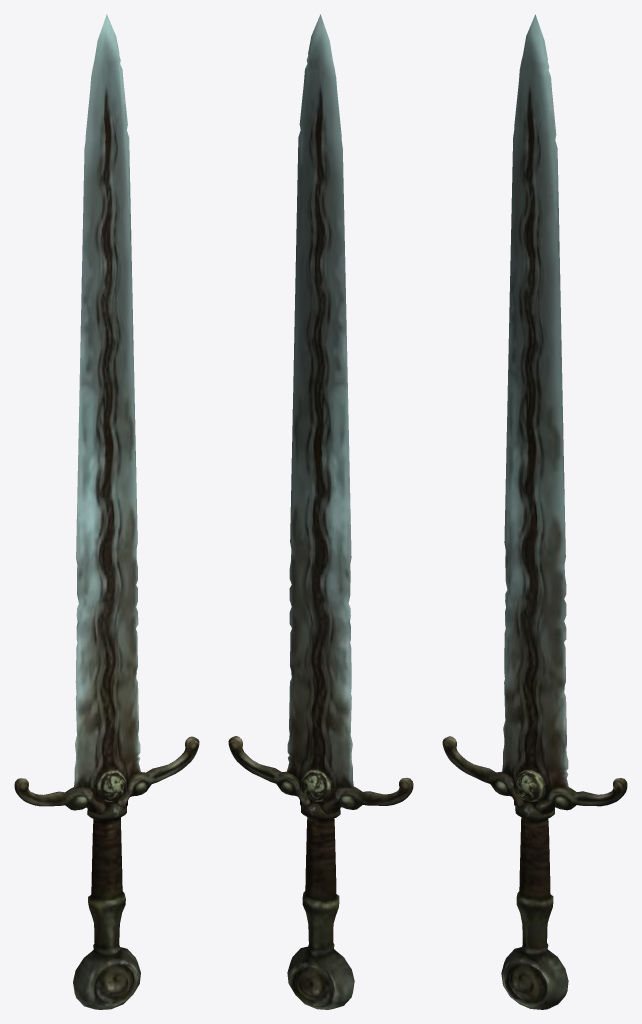
File: weapon-governor-s-dagger.glb
3 views of the same model, side by side, from view 1: azimuth 30°, elevation 25°; view 2: azimuth 150°, elevation 25°; view 3: azimuth 330°, elevation 25° (orthographic).
Visible parts, largest first — view 1: ellsworthSwordSmall_MDL_q; view 2: ellsworthSwordSmall_MDL_q; view 3: ellsworthSwordSmall_MDL_q.
Boxes of the visible parts, x1,y1,x2,y2 form: ellsworthSwordSmall_MDL_q: (14,14,199,1009); ellsworthSwordSmall_MDL_q: (228,14,413,1009); ellsworthSwordSmall_MDL_q: (442,14,627,1009).
Size of the model in its own units: 0.2606 by 1.35 by 0.0624.
Materials: 1 (1 with a texture image).
